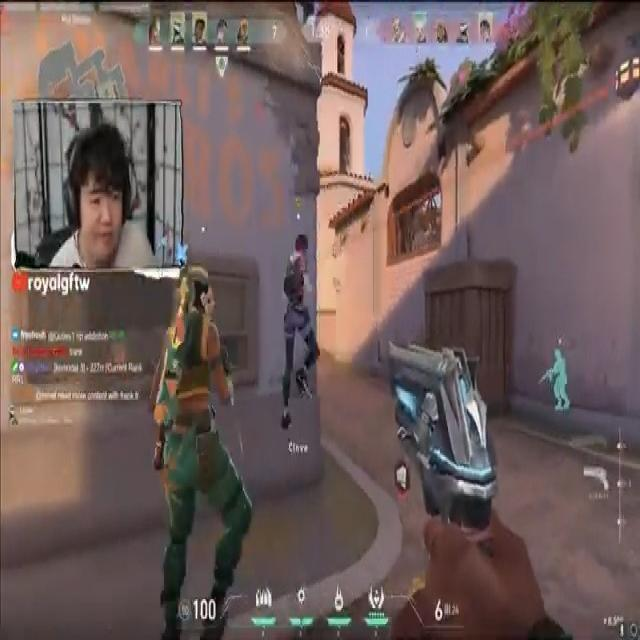ally: (149, 279, 260, 638), (282, 223, 321, 435)
ally behind wall: (536, 334, 580, 426)
